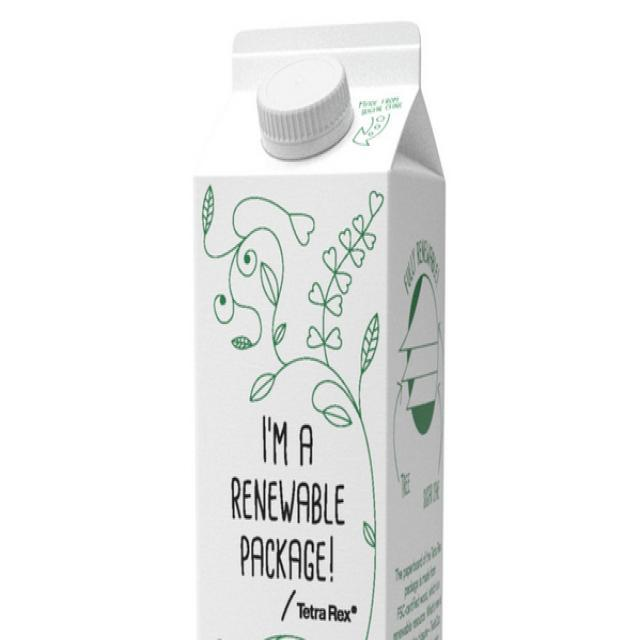Carton: (182, 8, 459, 640)
